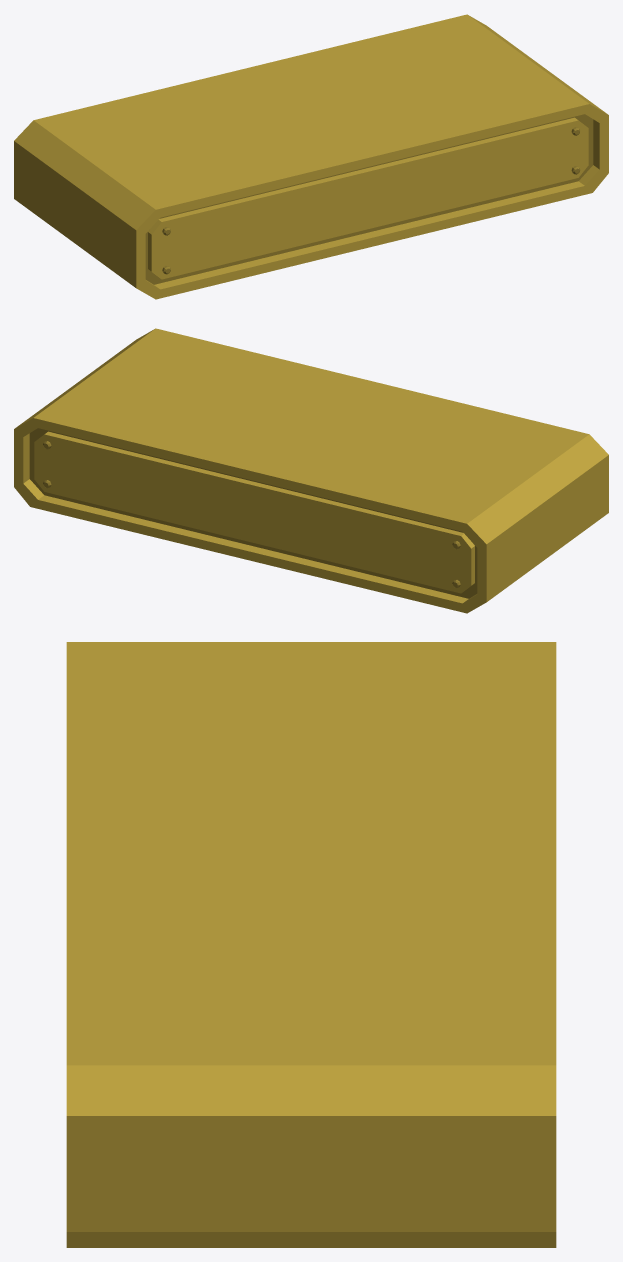
Rendered from MovingPlatform_Long.glb.
The picture shows the model from 3 angles, top to bottom: view 1: azimuth 30°, elevation 25°; view 2: azimuth 150°, elevation 25°; view 3: azimuth 270°, elevation 25°; orthographic projection. The views are drawn at different scales.
Visible parts, largest first — view 1: MovingPlatform_Long; view 2: MovingPlatform_Long; view 3: MovingPlatform_Long.
Boxes of the visible parts, x1,y1,x2,y2 form: MovingPlatform_Long: (14,14,608,299); MovingPlatform_Long: (14,328,608,613); MovingPlatform_Long: (66,642,556,1247).
Size of the model in its own units: 7.29 by 1.32 by 3.27.
